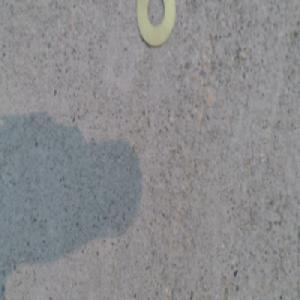Washer: (134, 0, 177, 48)
